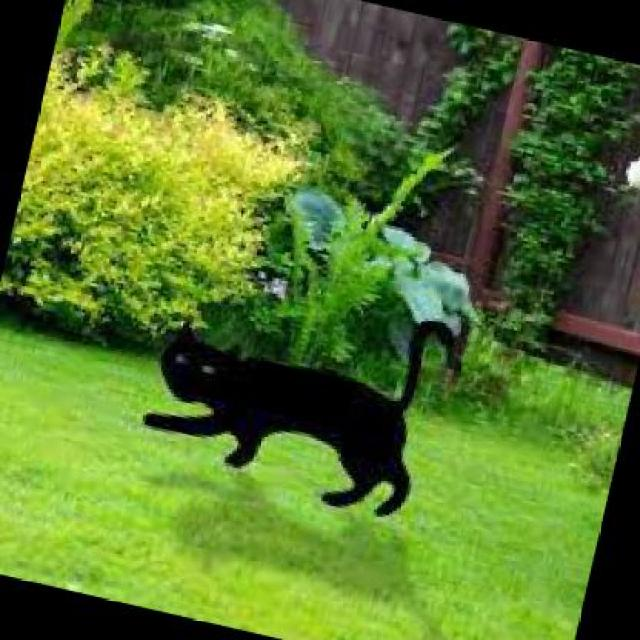animals: (111, 245, 469, 532)
